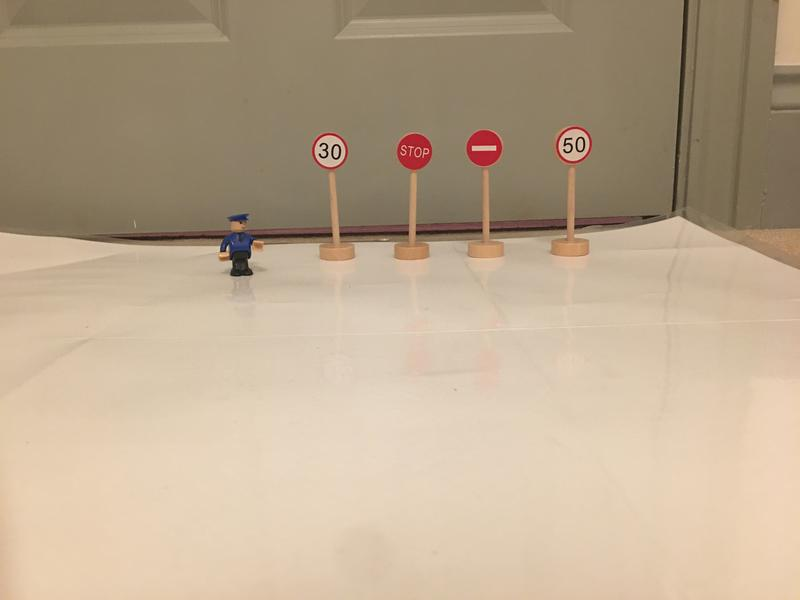Traffic_Sign_30: (312, 133, 348, 169)
Traffic_Sign_50: (556, 127, 592, 164)
Traffic_Sign_No_Entry: (468, 129, 502, 167)
Traffic_Sign_Stop: (397, 134, 433, 169)
person: (217, 214, 265, 279)
